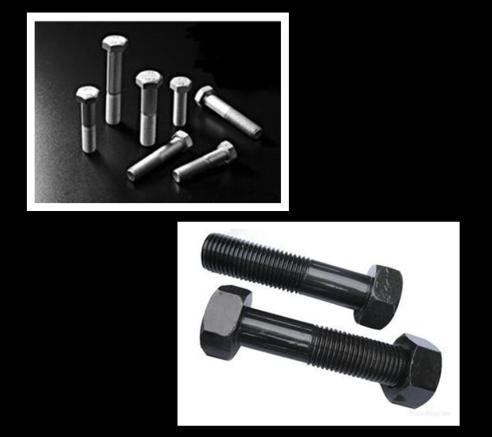screw: (200, 285, 443, 413), (201, 233, 402, 331), (193, 85, 265, 142), (126, 130, 191, 187), (172, 140, 237, 183), (102, 35, 127, 128), (135, 68, 160, 148), (75, 85, 102, 155), (168, 75, 190, 129)
